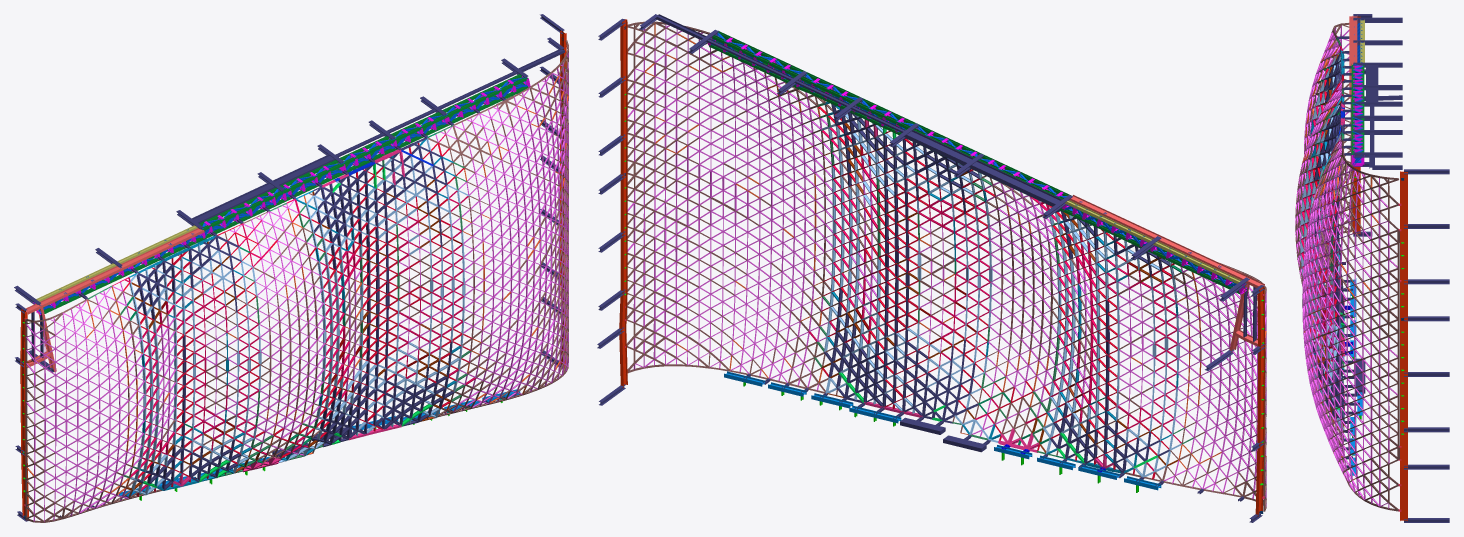
The model's file is steel-frame.glb.
3 views of the same model, side by side, from view 1: azimuth 30°, elevation 25°; view 2: azimuth 150°, elevation 25°; view 3: azimuth 270°, elevation 25° (orthographic). The views are drawn at different scales.
Parts seen in each view (by area): view 1: M02 (300x150x10x10), JM-ST1-CHORD (600X600X50X50), M22 (450x150x10x10), M05 (300x200x10x15), M74 (700x350x40x40), M04 (300x150x10x15), M100 (450x150x12x12), M52 (650x250x12x30), M66 (700x300x16x30), M58 (650x250x20x40), M54 (650x250x12x25), JM-BRACING (400X400X30X30) (+23 smaller); view 2: M02 (300x150x10x10), M05 (300x200x10x15), M22 (450x150x10x10), JM-ST1-CHORD (600X600X50X50), JM-MB2 (1600X650X50X60), M04 (300x150x10x15), M74 (700x350x40x40), M100 (450x150x12x12), M58 (650x250x20x40), M52 (650x250x12x30), M54 (650x250x12x25), M66 (700x300x16x30) (+22 smaller); view 3: M02 (300x150x10x10), JM-MB2 (1600X650X50X60), M05 (300x200x10x15), JM-SC1 (750X750X40X40), JM-SC7 (850X850X150X150), M04 (300x150x10x15), M09 (300x300x10x16), M03 (300x150x10x12), P2 (550x400x30x60), M58 (650x250x20x40), M22 (450x150x10x10), M54 (650x250x12x25) (+23 smaller).
Part boxes in pixels (x1,y1,x2,y2): M02 (300x150x10x10): (26, 52, 568, 522); JM-ST1-CHORD (600X600X50X50): (43, 74, 528, 313); M22 (450x150x10x10): (112, 190, 468, 477); M05 (300x200x10x15): (26, 51, 568, 499); M74 (700x350x40x40): (145, 141, 444, 490); M04 (300x150x10x15): (26, 79, 568, 513); M100 (450x150x12x12): (127, 143, 462, 478); M52 (650x250x12x30): (130, 156, 461, 494); M66 (700x300x16x30): (144, 146, 452, 483); M58 (650x250x20x40): (130, 185, 454, 495); M54 (650x250x12x25): (129, 206, 465, 490); JM-BRACING (400X400X30X30): (34, 77, 527, 313); M02 (300x150x10x10): (627, 24, 1266, 506); M05 (300x200x10x15): (627, 27, 1266, 473); M22 (450x150x10x10): (821, 127, 1181, 443); JM-ST1-CHORD (600X600X50X50): (709, 30, 1239, 293); JM-MB2 (1600X650X50X60): (619, 19, 1265, 516); M04 (300x150x10x15): (627, 24, 1266, 493); M74 (700x350x40x40): (832, 110, 1160, 472); M100 (450x150x12x12): (827, 113, 1174, 449); M58 (650x250x20x40): (835, 126, 1181, 477); M52 (650x250x12x30): (828, 115, 1176, 476); M54 (650x250x12x25): (825, 146, 1179, 467); M66 (700x300x16x30): (828, 121, 1157, 463); M02 (300x150x10x10): (1295, 25, 1397, 508); JM-MB2 (1600X650X50X60): (1352, 16, 1407, 520); M05 (300x200x10x15): (1298, 58, 1398, 502); JM-SC1 (750X750X40X40): (1353, 14, 1449, 522); JM-SC7 (850X850X150X150): (1353, 40, 1402, 157); M04 (300x150x10x15): (1304, 39, 1397, 483); M09 (300x300x10x16): (1320, 25, 1399, 500); M03 (300x150x10x12): (1302, 39, 1378, 480); P2 (550x400x30x60): (1339, 36, 1359, 468); M58 (650x250x20x40): (1304, 91, 1343, 356); M22 (450x150x10x10): (1300, 45, 1342, 347); M54 (650x250x12x25): (1300, 54, 1344, 429).
Size of the model in its own units: 137 by 79.11 by 30.98.
